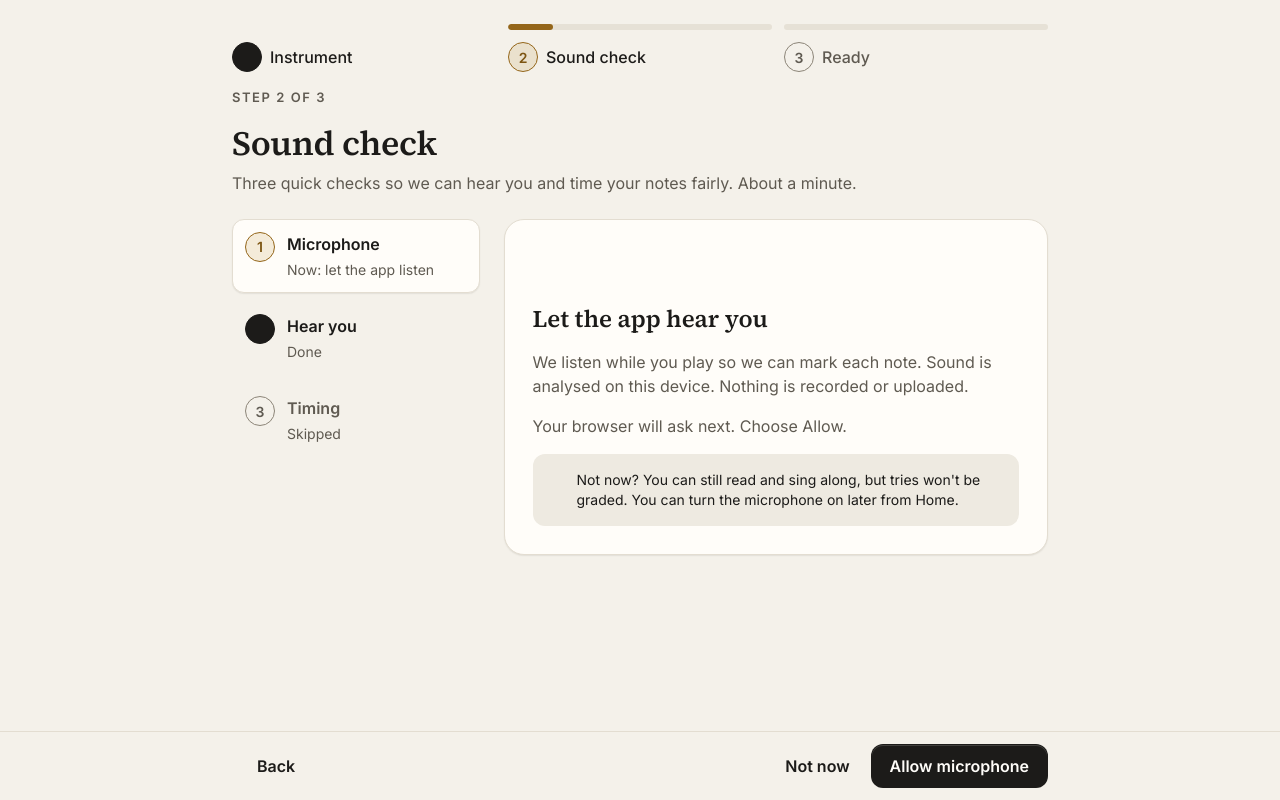
Test: OnboardingScreen › a reload at Ready asks for the microphone again, then returns to Ready with what was decided
Click the button "Allow microphone" at [959, 766], box [871,744,1048,788]
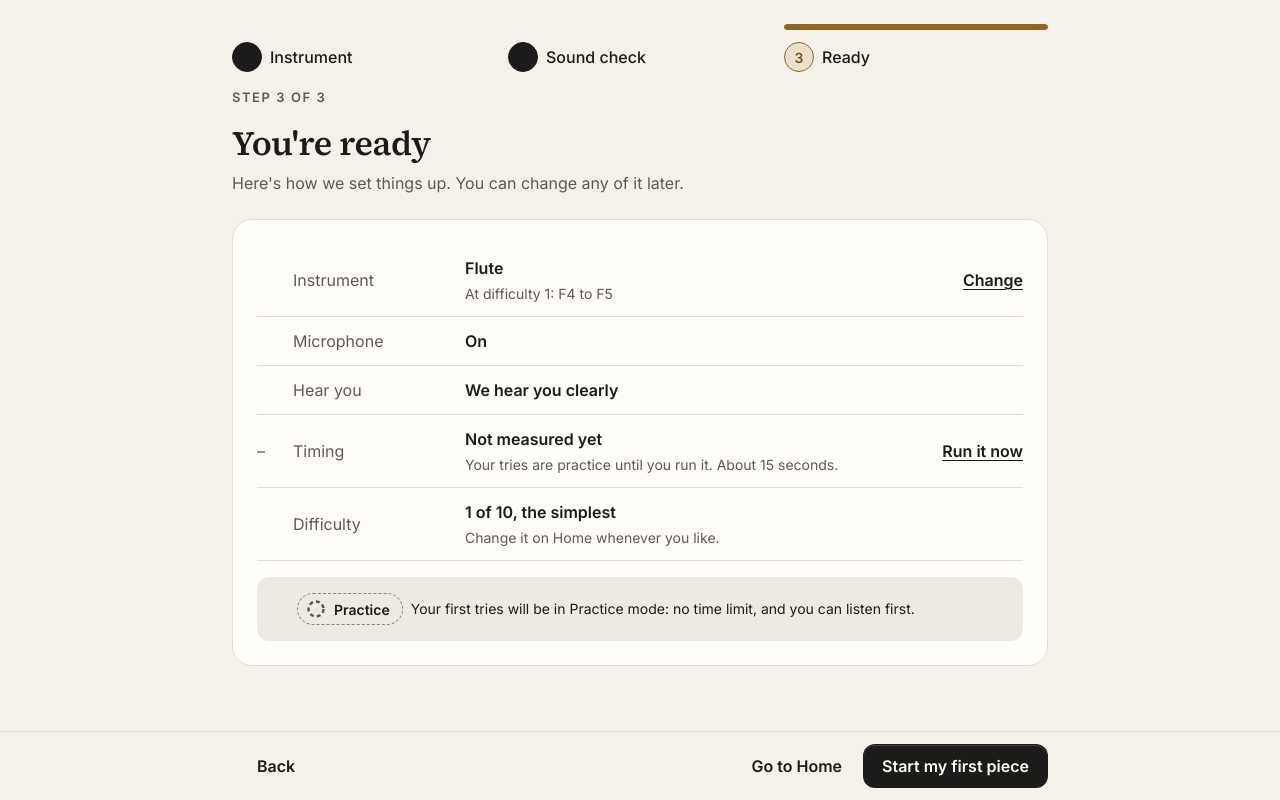
Expected: the text "Step 3 of 3" is shown, [232,89,326,105]
Expected: the list item "Hear you We hear you clearly" is shown, [257,366,1023,415]
